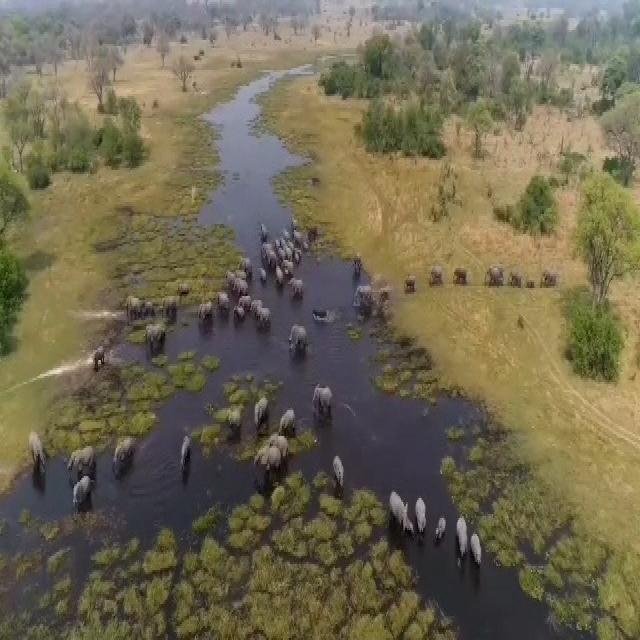Elephant: (22, 424, 49, 484), (388, 492, 411, 544), (258, 446, 285, 485), (72, 479, 102, 514), (113, 439, 142, 474), (67, 439, 95, 472), (127, 294, 157, 322), (252, 396, 274, 433), (333, 453, 351, 496), (456, 514, 471, 564), (194, 293, 216, 326), (314, 382, 334, 418), (144, 328, 172, 353), (228, 396, 244, 439), (486, 268, 504, 306), (414, 498, 431, 538), (472, 530, 487, 575), (358, 286, 379, 318), (177, 431, 193, 466), (264, 230, 278, 268), (281, 406, 298, 437), (426, 266, 446, 292), (455, 268, 474, 295), (290, 272, 308, 300), (90, 350, 108, 378), (273, 430, 291, 456), (235, 253, 250, 282), (435, 512, 448, 544), (542, 268, 562, 288), (291, 322, 304, 352), (168, 300, 184, 324), (233, 297, 251, 318), (309, 305, 326, 327), (512, 266, 523, 297), (281, 232, 297, 252), (354, 248, 366, 274), (256, 305, 272, 319), (404, 274, 417, 290), (219, 290, 229, 309), (275, 266, 284, 287), (261, 272, 269, 287)
